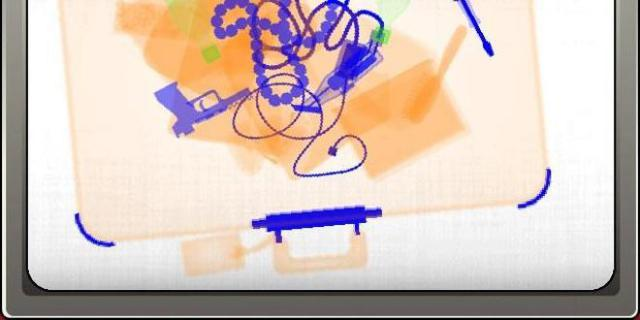Gun: (149, 80, 251, 134)
